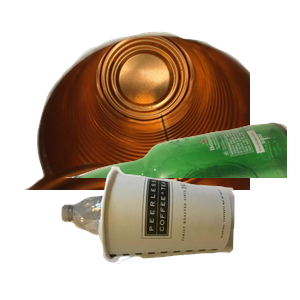glass: (60, 120, 300, 300)
metal: (21, 29, 261, 209)
plastic: (59, 193, 241, 300)
trash: (95, 164, 300, 300)
